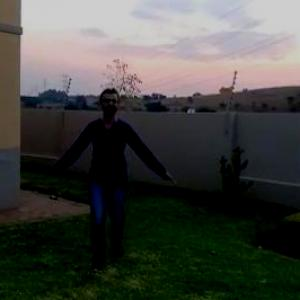land: (61, 97, 160, 238)
